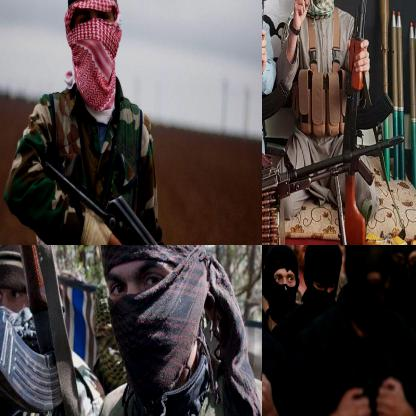rifle: (38, 155, 261, 244), (262, 121, 409, 244), (0, 245, 97, 415), (343, 0, 395, 185), (262, 0, 293, 165)
